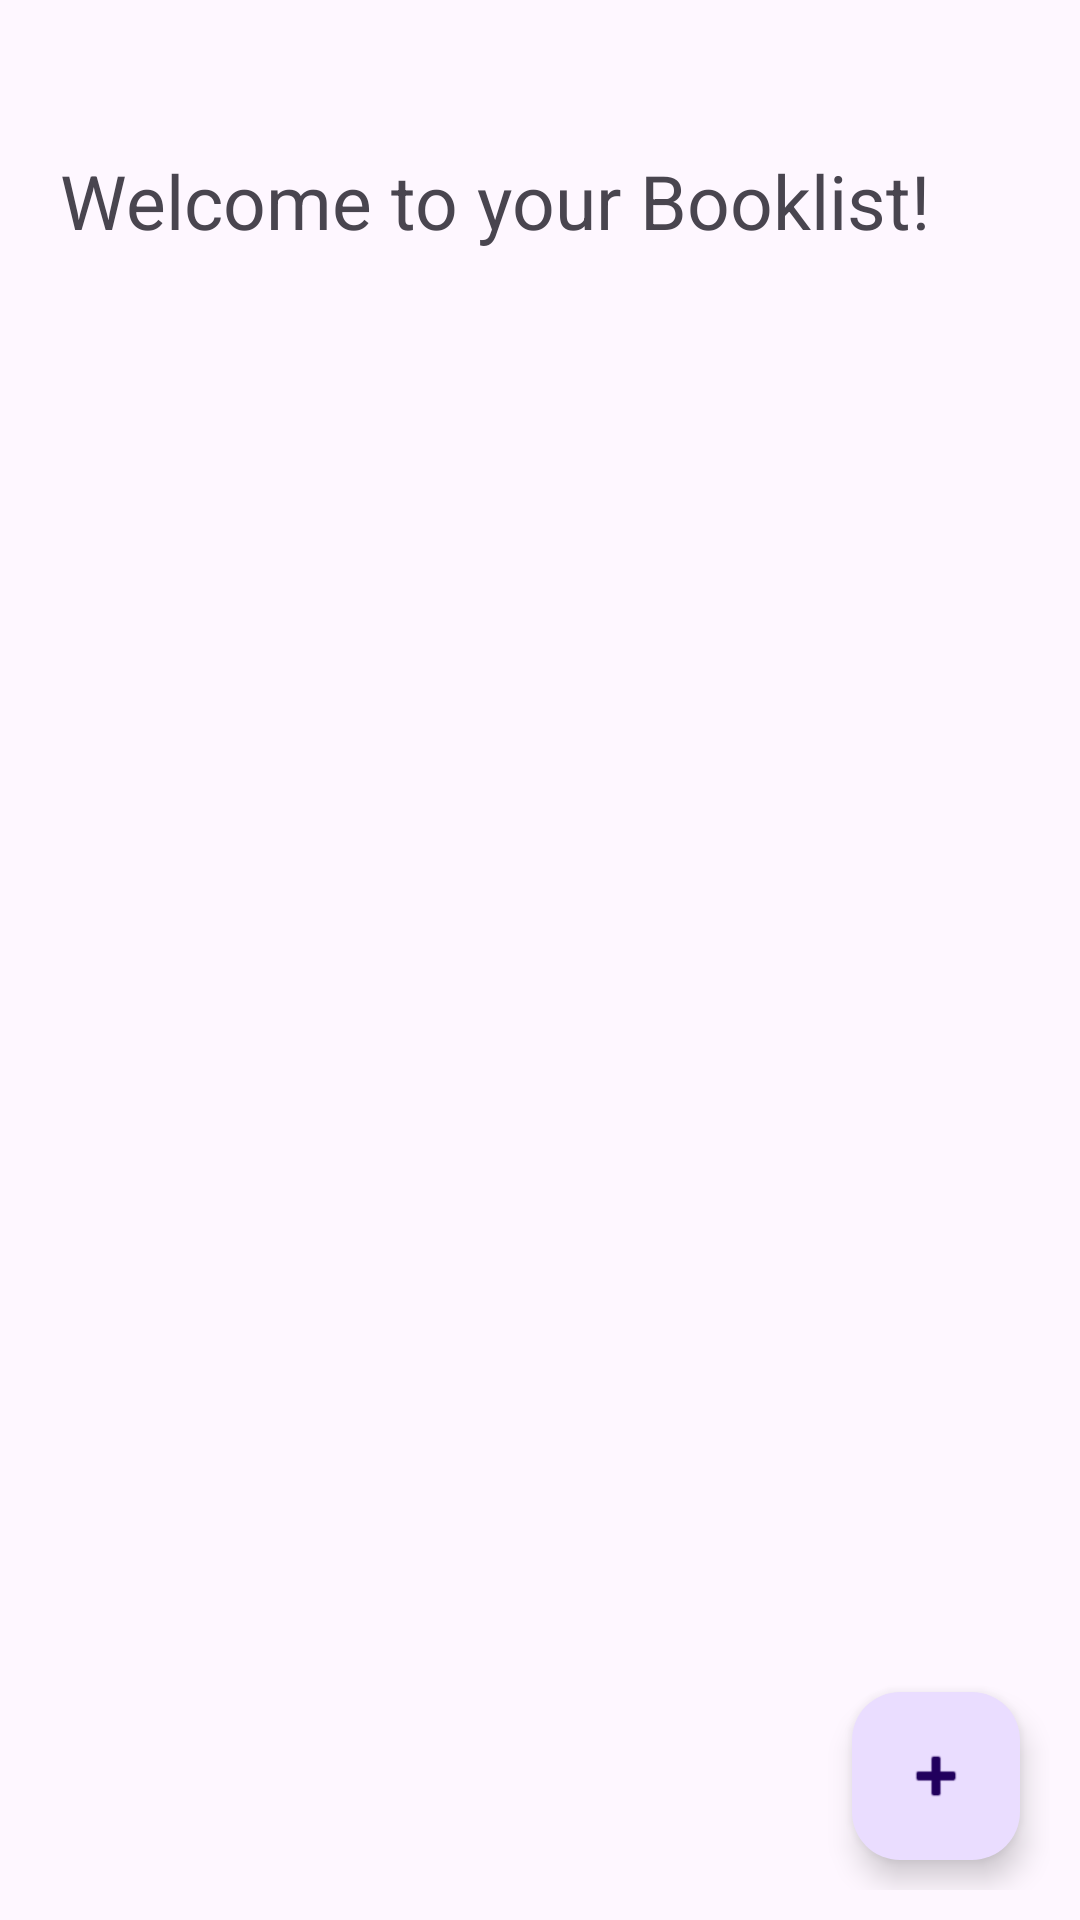

Icons on this 1080px x 1920px Android screen, each with the point to tap as [x,y]:
add: [936,1776]
